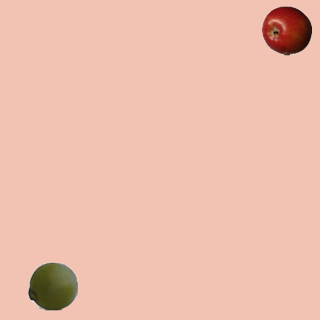Apple Braeburn: (261, 5, 311, 55)
Grape White 4: (27, 260, 77, 310)
